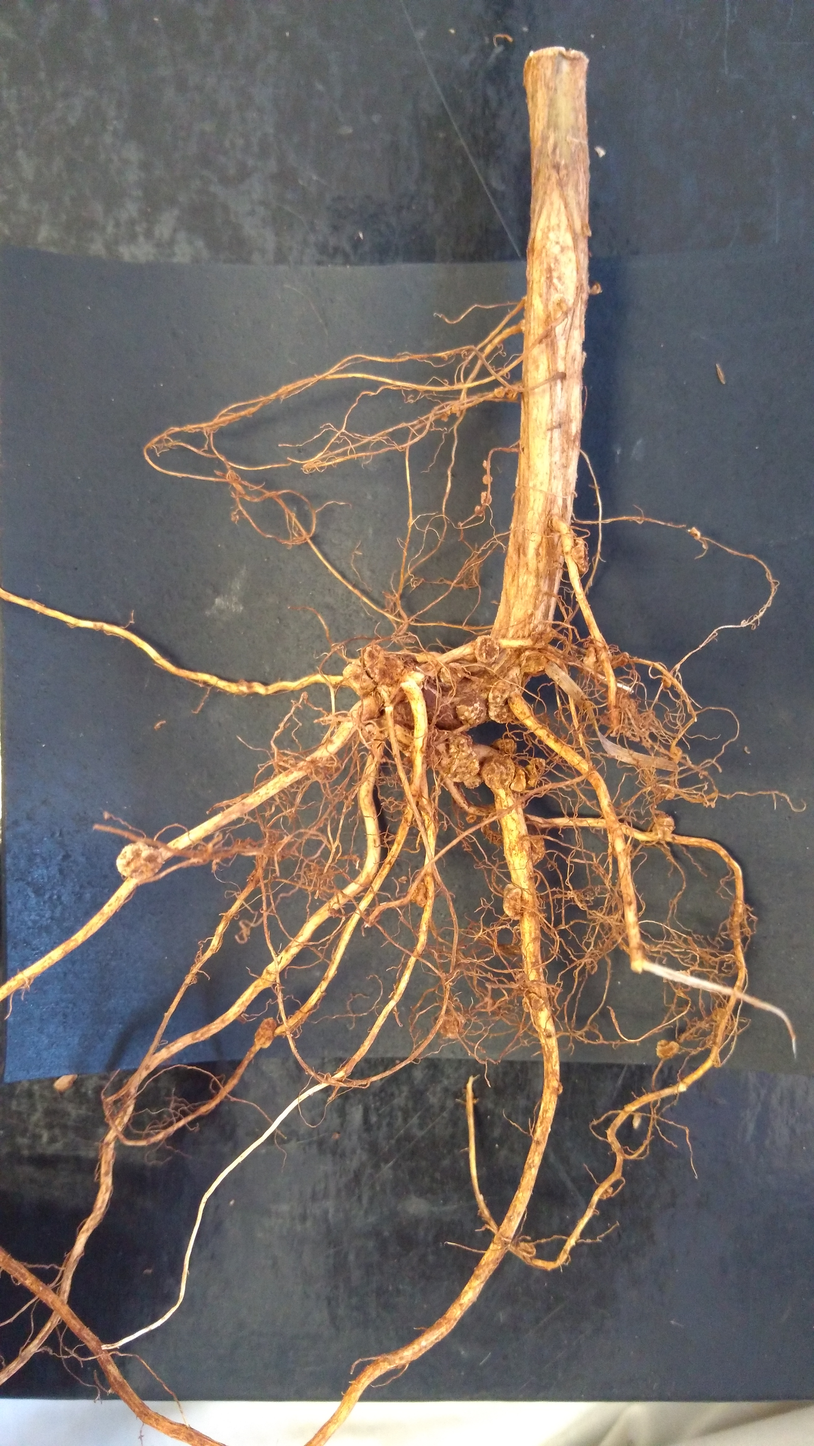nodule: (112, 838, 169, 884), (361, 643, 412, 688), (442, 729, 481, 786), (484, 676, 522, 726), (337, 660, 377, 701), (478, 751, 516, 791), (249, 1010, 282, 1053), (434, 654, 468, 692), (454, 696, 487, 732), (472, 630, 503, 668), (432, 1011, 470, 1041), (500, 880, 526, 923), (568, 532, 592, 575), (517, 648, 550, 677), (526, 832, 549, 869), (488, 735, 520, 760), (649, 813, 679, 838), (407, 877, 430, 909), (519, 991, 546, 1014), (606, 649, 632, 672), (512, 1239, 539, 1261), (654, 1039, 679, 1060), (509, 769, 528, 796), (460, 773, 485, 793), (580, 645, 598, 671), (528, 755, 548, 776), (524, 763, 540, 789), (588, 279, 606, 298), (669, 746, 686, 765), (598, 1185, 618, 1201), (478, 489, 493, 506), (463, 810, 479, 825), (473, 503, 486, 519), (660, 674, 673, 690), (481, 473, 495, 486), (494, 386, 505, 398), (506, 388, 517, 400), (482, 458, 492, 469), (450, 403, 459, 413), (440, 411, 449, 421), (440, 353, 449, 361)
